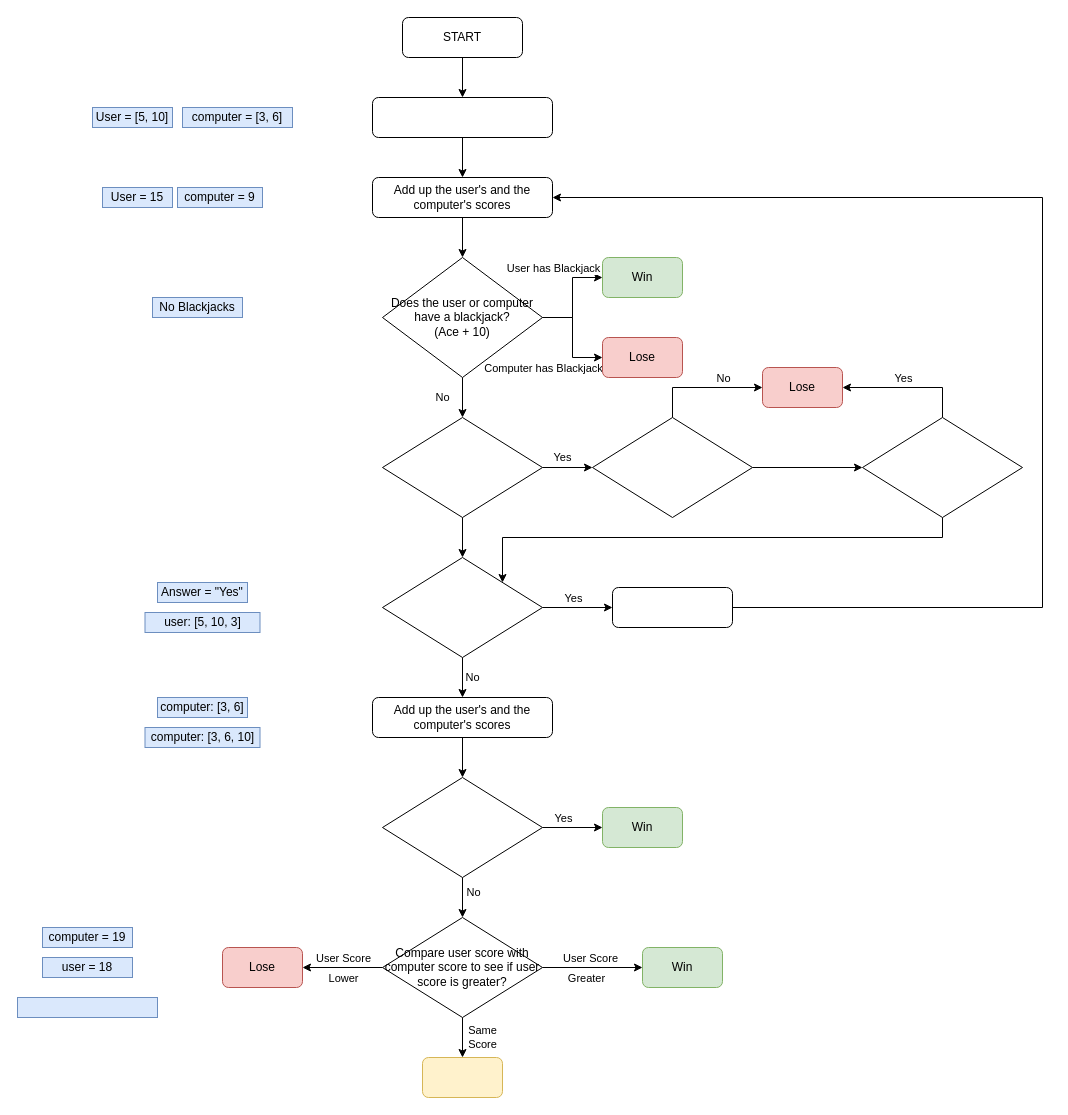
The diagram is 1068 pixels wide and 1115 high, and some of its shapes have lost their labels. The centre of each missing label's shape, as x and y in pixels:
Ask the user if they want to get another card: point (462, 607)
Do they have an "Ace"?: point (672, 467)
Draw: point (462, 1077)
Draw another card: point (672, 607)
Has Computer gone over 21?: point (462, 827)
If the Ace counts as a 1 instead of 11, are they over 21?: point (942, 467)
Is user's score over 21?: point (462, 467)
Outcome: Computer wins: point (87, 1007)
The user and computer should each get 2 random cards: point (462, 117)
